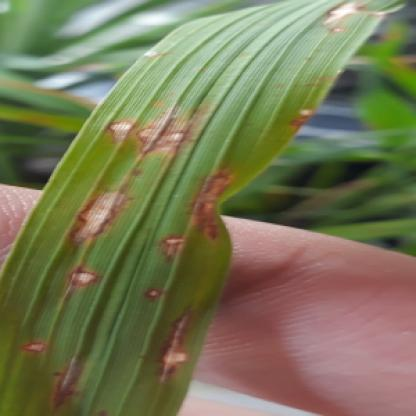Rice blast: (100, 103, 207, 161), (69, 169, 131, 253), (189, 166, 241, 246), (158, 294, 201, 385), (48, 356, 90, 413), (310, 1, 371, 38), (64, 265, 103, 301), (159, 232, 195, 266), (283, 108, 315, 145), (18, 335, 50, 366), (138, 284, 166, 307)
